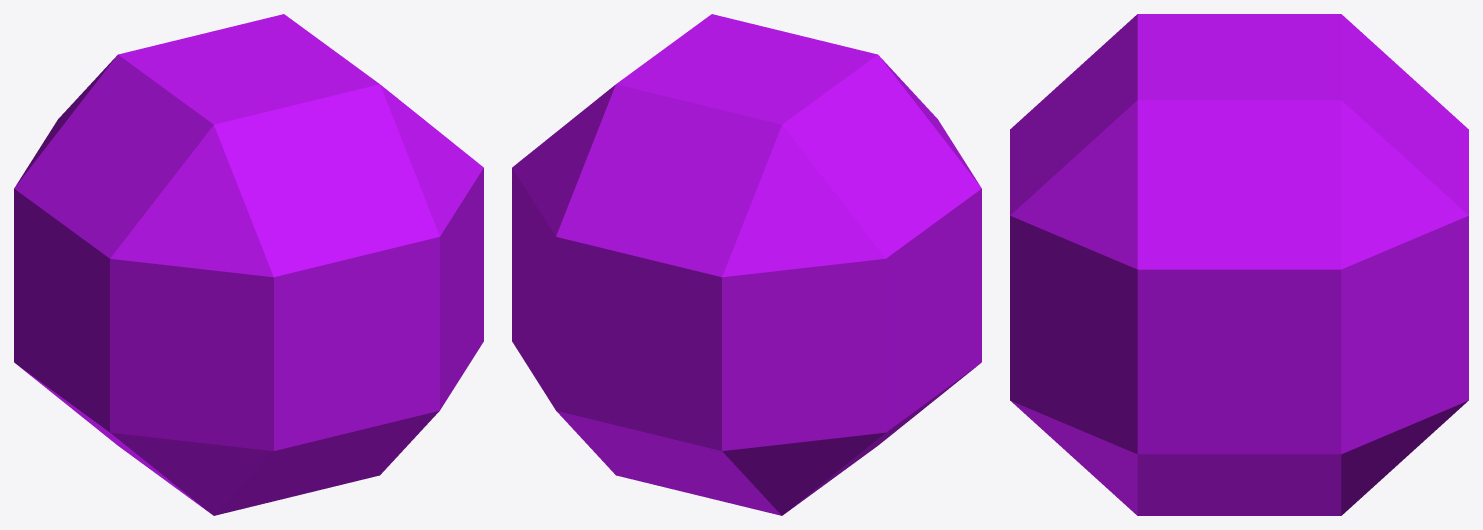
Rendered from gfx_194.obj.
3 views of the same model, side by side, from view 1: azimuth 30°, elevation 25°; view 2: azimuth 150°, elevation 25°; view 3: azimuth 270°, elevation 25° (orthographic). The views are drawn at different scales.
Bounding box in the file's own units: 0.1406 × 0.1406 × 0.1406.
